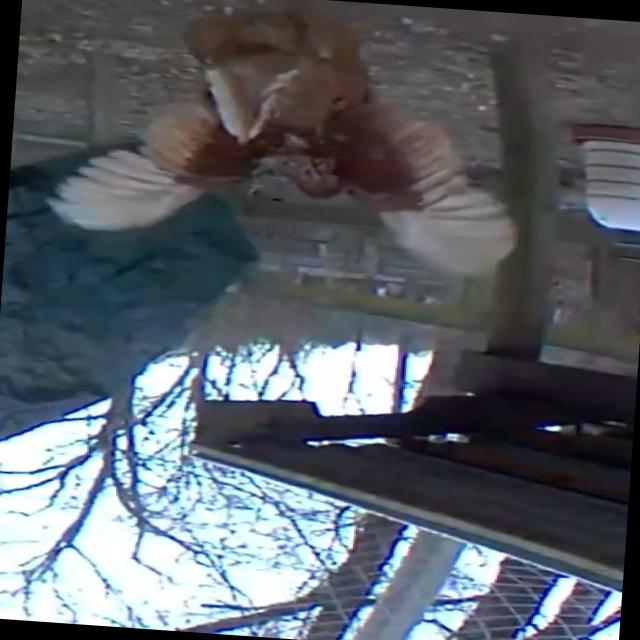wing flap: (44, 0, 547, 276)
